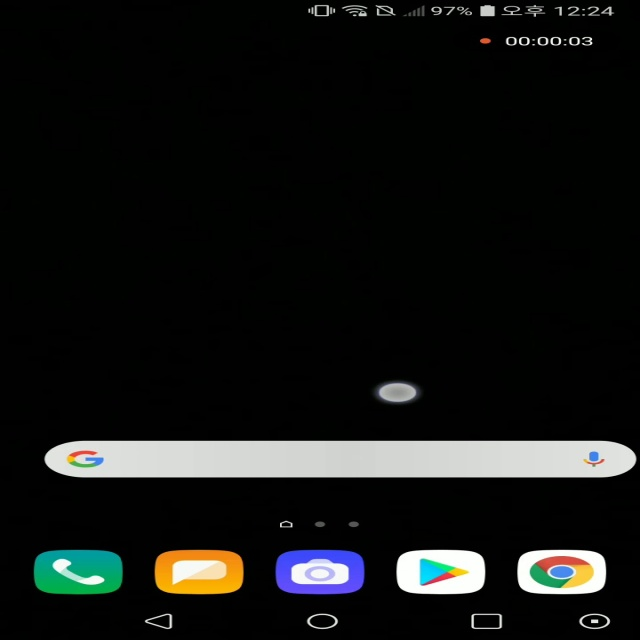Cursor: (376, 382, 421, 404)
